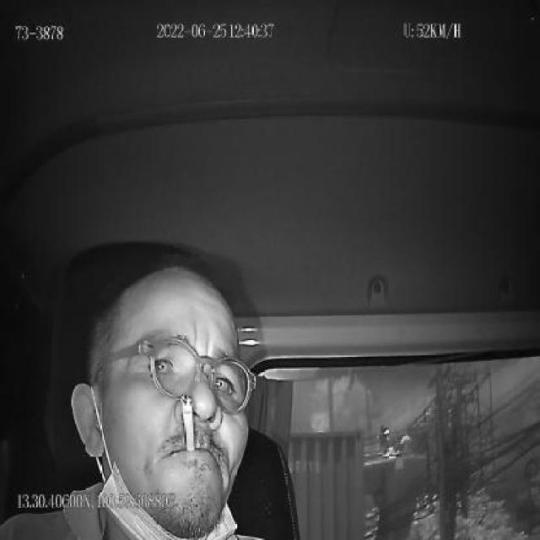smoking: (179, 391, 197, 453)
